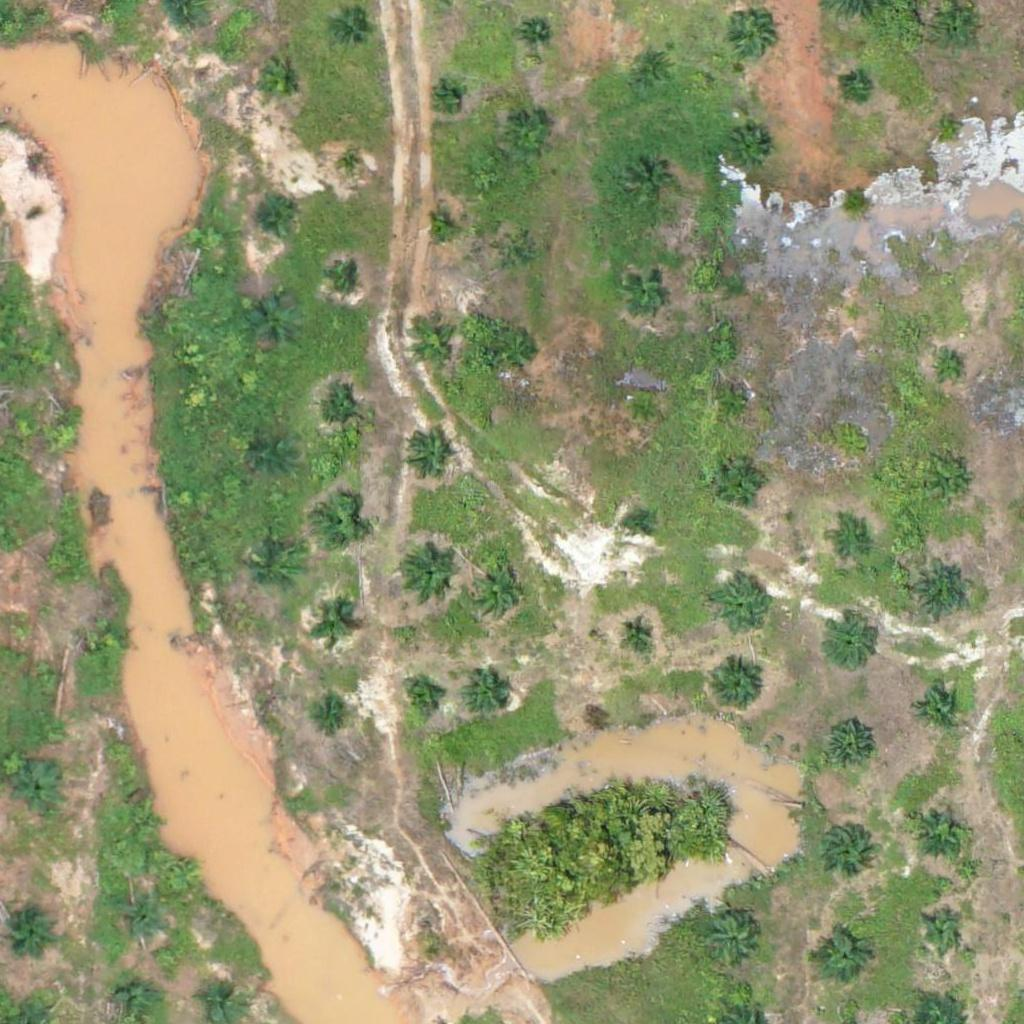Kelapa_Sawit: (911, 559, 974, 622), (465, 560, 528, 623), (705, 656, 767, 719), (909, 798, 971, 861), (709, 574, 771, 637), (399, 542, 461, 605), (495, 325, 545, 376), (814, 932, 864, 983), (825, 618, 875, 669), (708, 917, 758, 968), (822, 719, 872, 770), (913, 683, 963, 734), (715, 455, 765, 506), (408, 319, 458, 370), (254, 58, 304, 109), (8, 901, 58, 951), (115, 896, 165, 946), (14, 765, 64, 815), (819, 822, 869, 872), (934, 6, 984, 56), (316, 390, 366, 440), (314, 499, 364, 549), (403, 432, 453, 482), (463, 668, 513, 718), (723, 12, 773, 62), (726, 126, 776, 176), (623, 265, 673, 315), (623, 158, 673, 208), (630, 44, 680, 94), (503, 114, 553, 164), (250, 298, 300, 348), (252, 549, 302, 599), (828, 524, 866, 562), (123, 803, 161, 841), (313, 604, 351, 642), (314, 695, 352, 733), (401, 678, 439, 716), (27, 655, 65, 693), (37, 542, 75, 580), (43, 417, 81, 455), (254, 199, 292, 237), (933, 467, 970, 505), (922, 911, 959, 949), (620, 615, 657, 653), (91, 617, 128, 655), (624, 391, 662, 428), (498, 236, 536, 273), (254, 437, 291, 475), (717, 385, 754, 423), (333, 15, 370, 52), (843, 75, 868, 101), (936, 357, 961, 382), (936, 113, 961, 138), (626, 512, 651, 537), (434, 85, 459, 110), (427, 215, 452, 240), (339, 154, 364, 179), (333, 266, 358, 291), (842, 302, 867, 327), (522, 21, 546, 46)
